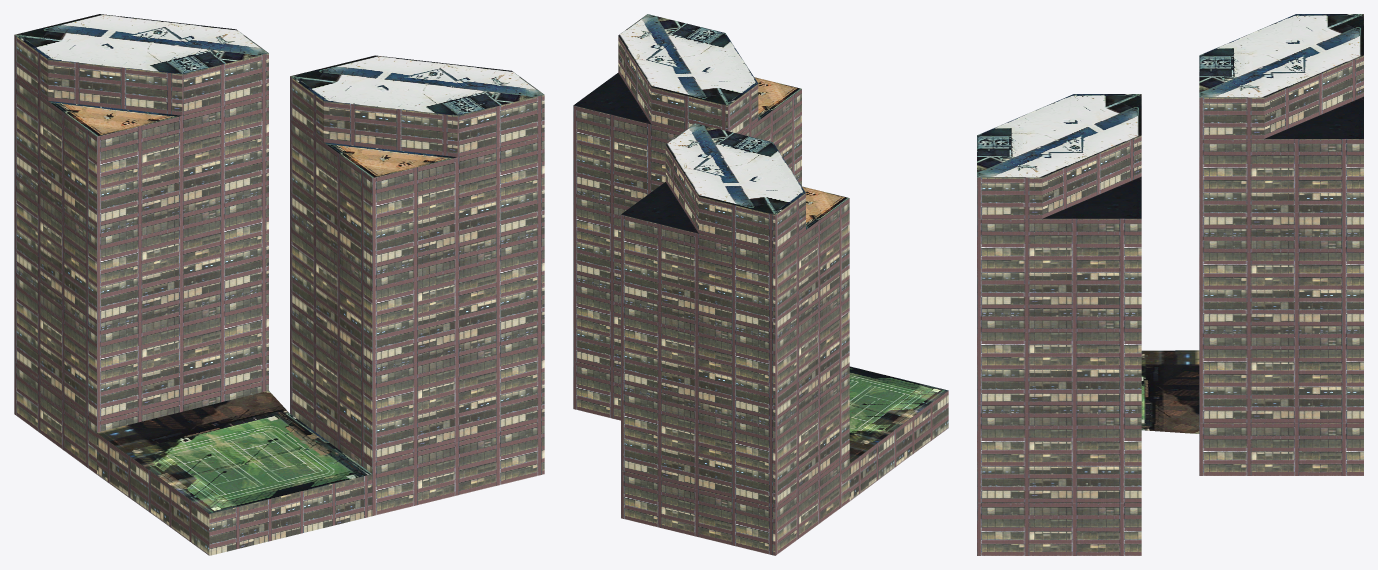
The model's file is Highrise4.gltf.
The picture shows the model from 3 angles, left to right: view 1: azimuth 30°, elevation 25°; view 2: azimuth 150°, elevation 25°; view 3: azimuth 270°, elevation 25°; orthographic projection. The views are drawn at different scales.
Visible parts, largest first — view 1: Highrise4; view 2: Highrise4; view 3: Highrise4.
Part boxes in pixels (bbox=[...]): Highrise4: bbox=[14, 14, 544, 555]; Highrise4: bbox=[573, 14, 948, 555]; Highrise4: bbox=[977, 14, 1363, 555].
Bounding box in the file's own units: 93.66 × 101 × 93.54.
1 material, 1 textured.
